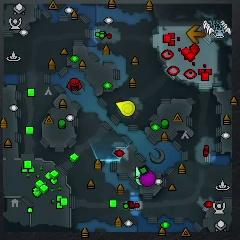p2: (135, 166, 145, 187)
p3: (138, 166, 156, 187)
p4: (115, 100, 136, 117)
x5: (187, 26, 205, 44)
